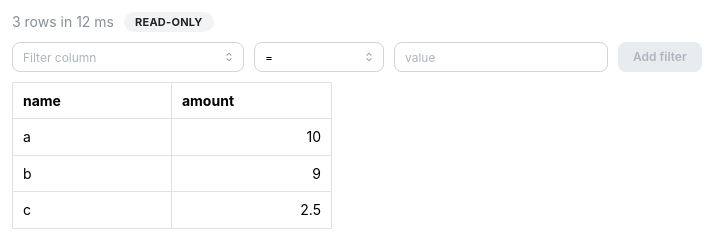
Scenario: ResultGrid › filters rows in the browser and reports the shown count
Click the dropdown labelled "Filter column".
click(128, 57)  # box x1=12 y1=42 x2=244 y2=72
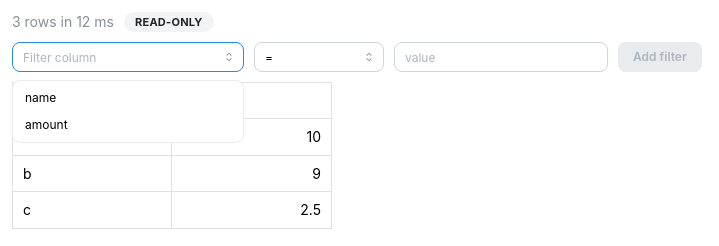
Click the option "name".
click(41, 98)  # box x1=25 y1=90 x2=56 y2=105
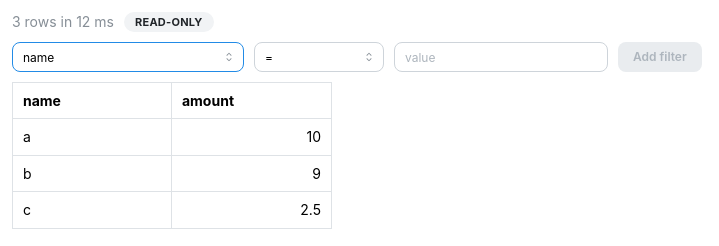
Type "b" into the field named "Filter value".
click(501, 57); type("b")  # box x1=394 y1=42 x2=608 y2=72
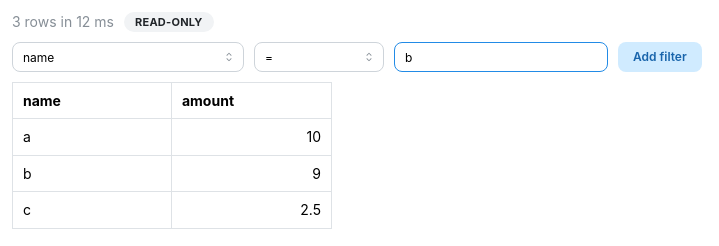
Click the button "Add filter".
click(660, 57)  # box x1=618 y1=42 x2=702 y2=72
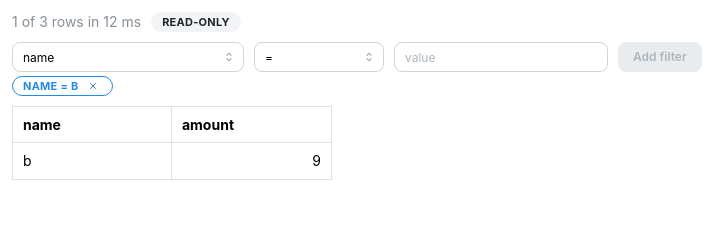
Now the text "1 of 3 rows in 12 ms" is shown, box x1=12 y1=12 x2=141 y2=32
